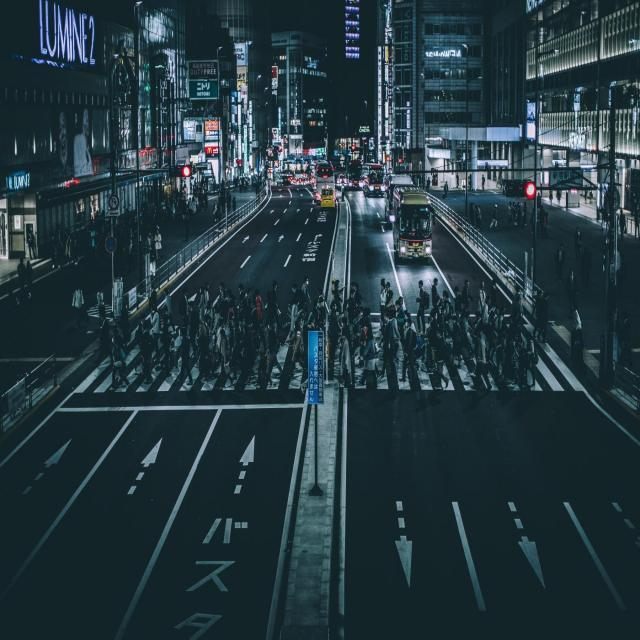bus: (388, 182, 462, 266)
